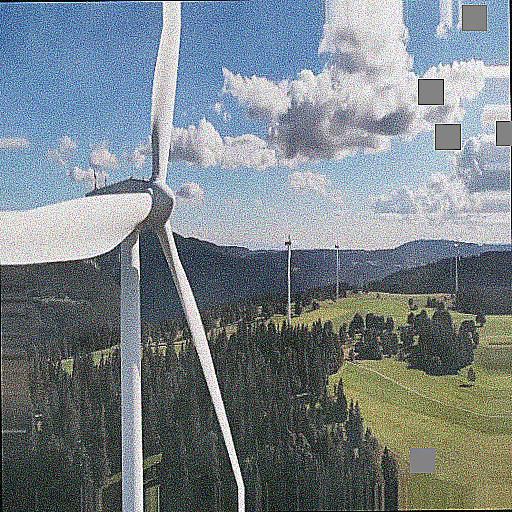wind turbine: (1, 1, 245, 481)
